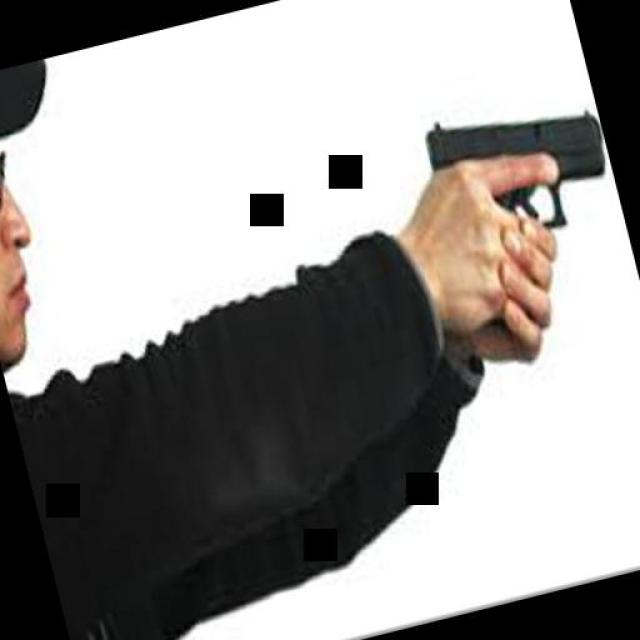gun: (414, 71, 640, 344)
